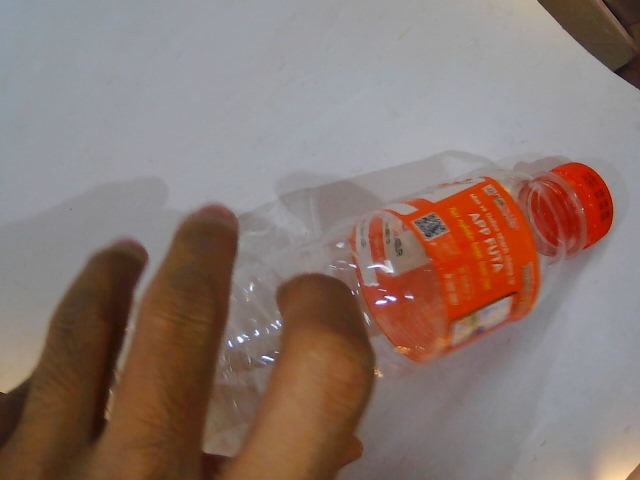plastic-bag: (11, 145, 629, 480)
